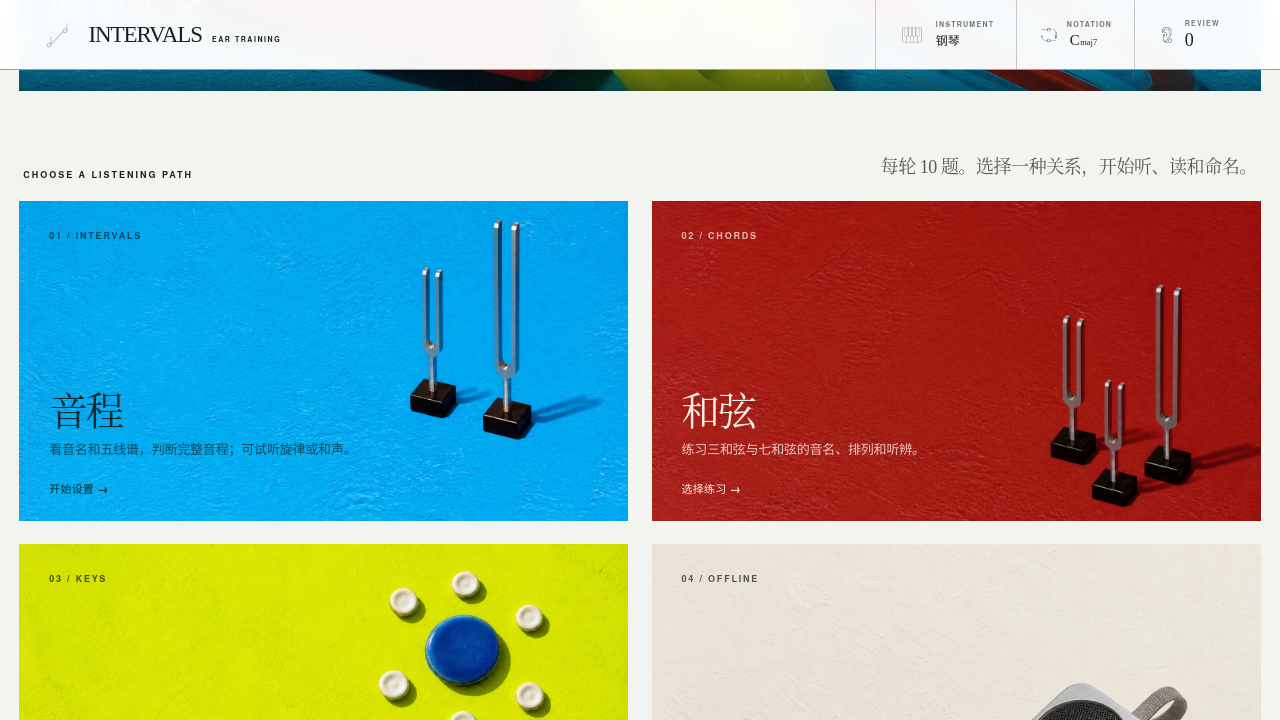
Scenario: App quiz navigation and triad playback › keeps playback controls on the quiz and removes the duplicate interval setup control
(page scrolled)
Click the button "01 / INTERVALS 音程 看音名和五线谱，判断完整音程；可试听旋律或和声。 开始设置 →": click(324, 361) [19,201,628,521]
(page scrolled)
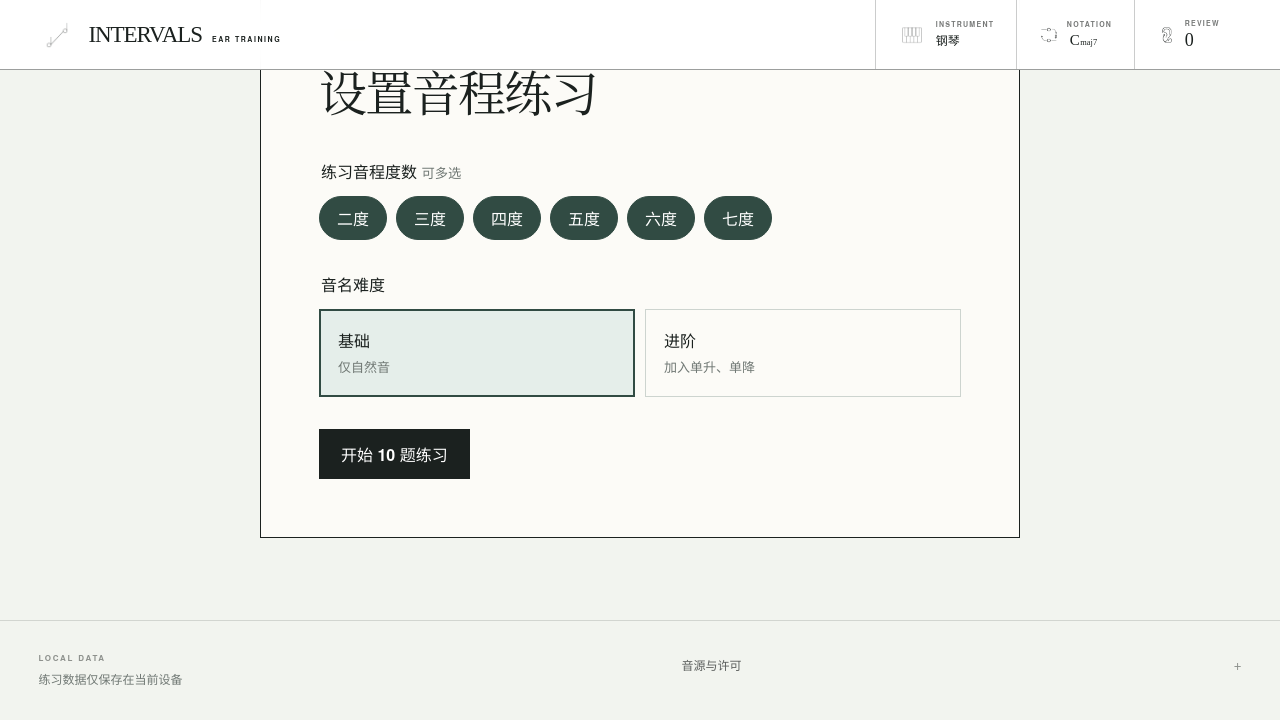
Click the button "开始 10 题练习": click(394, 454) [319,429,470,479]
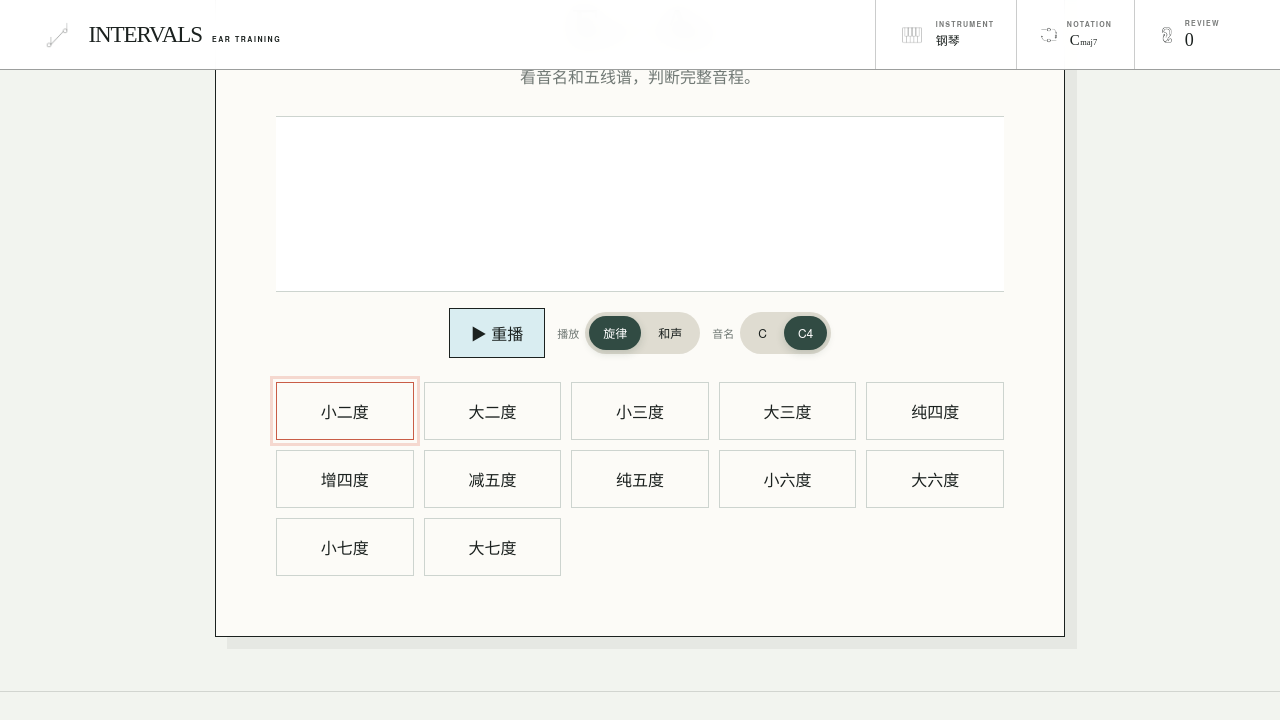
Check: the button "旋律" is shown, box [589,316,641,350]
Check: the button "和声" is shown, box [644,316,696,350]
Check: the button "C4" is shown, box [784,316,827,350]
